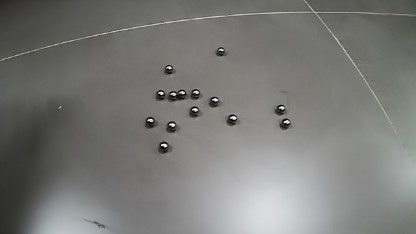ironball: (159, 141, 169, 153), (280, 118, 290, 129), (167, 121, 177, 132), (275, 104, 286, 114), (189, 106, 199, 117), (227, 114, 237, 125), (209, 96, 219, 106), (145, 117, 155, 127), (156, 90, 165, 100), (191, 89, 200, 99), (177, 89, 186, 99), (164, 65, 173, 74), (169, 91, 177, 101), (216, 47, 224, 55)
